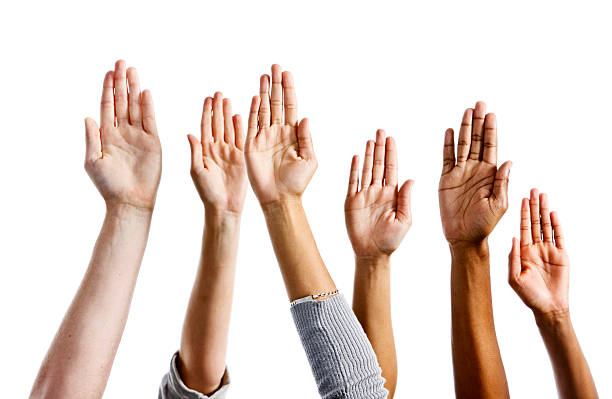hand: (185, 53, 327, 241), (67, 45, 176, 232), (431, 92, 514, 248), (341, 120, 419, 277)
